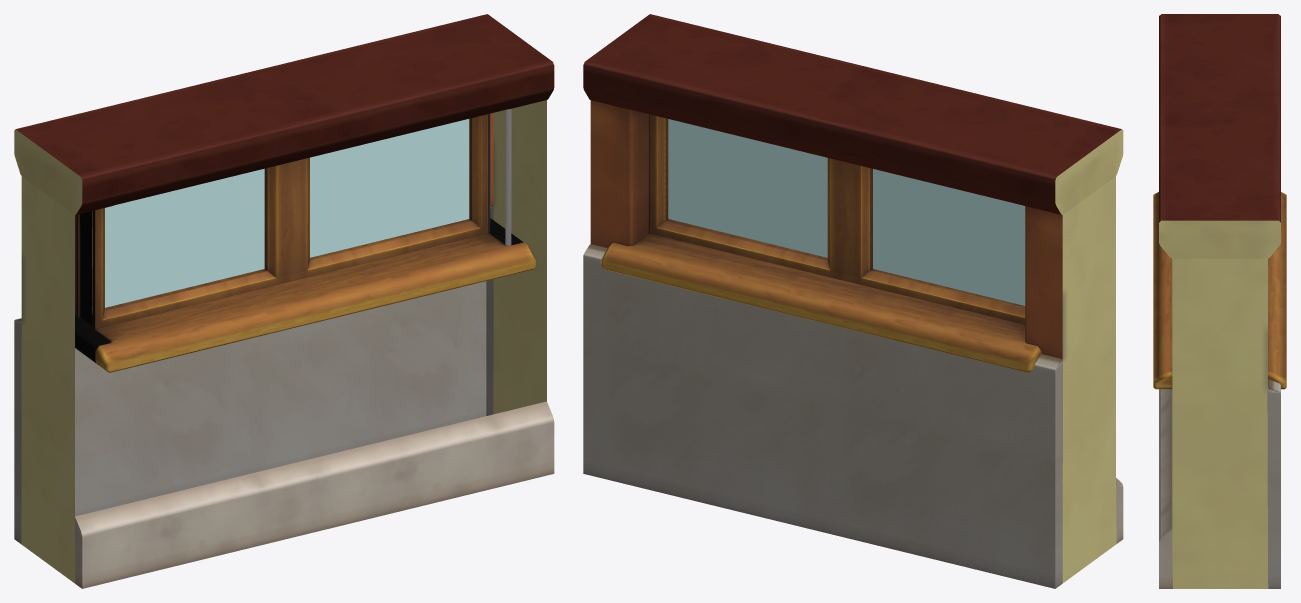
File: Wall_Window_Small.fbx
The picture shows the model from 3 angles, left to right: view 1: azimuth 30°, elevation 25°; view 2: azimuth 150°, elevation 25°; view 3: azimuth 270°, elevation 25°; orthographic projection. The views are drawn at different scales.
Parts seen in each view (by area): view 1: wall_brick_window_01, brick wall window 01 iniside, m_city_wall_window_01_glass; view 2: brick wall window 01 iniside, wall_brick_window_01, m_city_wall_window_01_glass; view 3: wall_brick_window_01.
Boxes of the visible parts, x1=… form: wall_brick_window_01: x1=14, y1=14, x2=554, y2=588; brick wall window 01 iniside: x1=16, y1=113, x2=493, y2=516; m_city_wall_window_01_glass: x1=105, y1=119, x2=469, y2=307; brick wall window 01 iniside: x1=583, y1=100, x2=1062, y2=588; wall_brick_window_01: x1=583, y1=14, x2=1123, y2=588; m_city_wall_window_01_glass: x1=668, y1=119, x2=1025, y2=305; wall_brick_window_01: x1=1153, y1=14, x2=1286, y2=588.
Size of the model in its own units: 240 by 200 by 65.73.
